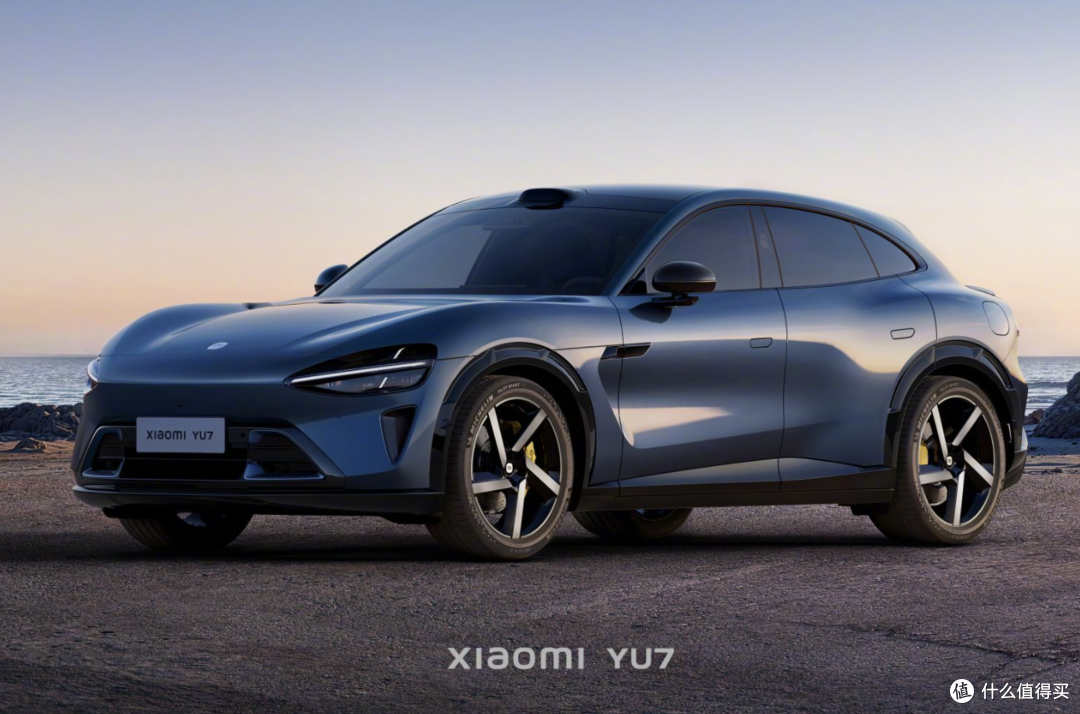other: (66, 166, 1037, 548)
